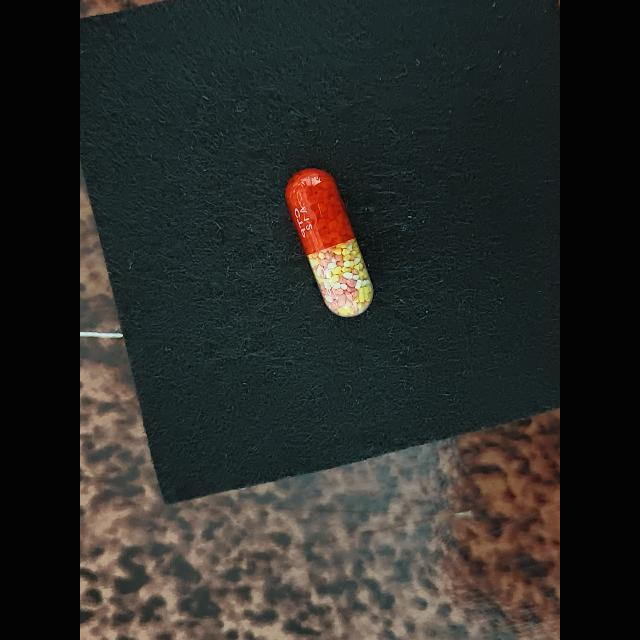Intact Capsule: (285, 168, 374, 317)
